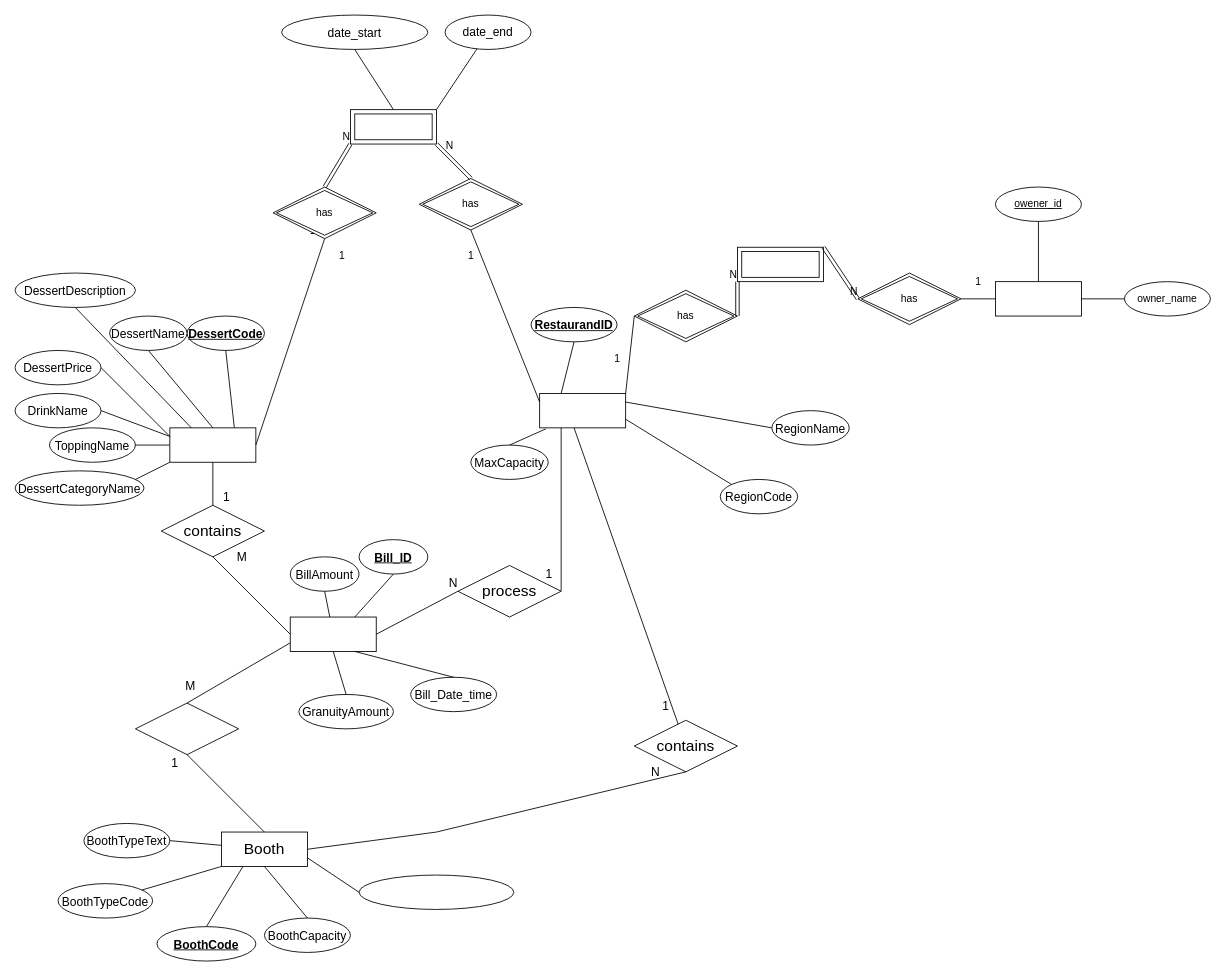
Some shapes in this 1226 by 976 pixel diagram are drawn without their labels. The shapes that lost their labels are listed below. From the top down, each one's centre as x and y in pixels, then its label:
At pixel 393 126: "dessert_offer".
At pixel 780 264: "has_owner".
At pixel 1038 298: "Owner".
At pixel 582 410: "Restaurant".
At pixel 212 444: "Dessert".
At pixel 332 633: "Bill".
At pixel 187 728: "generate".
At pixel 436 891: "SmokingSectionIndicator".
